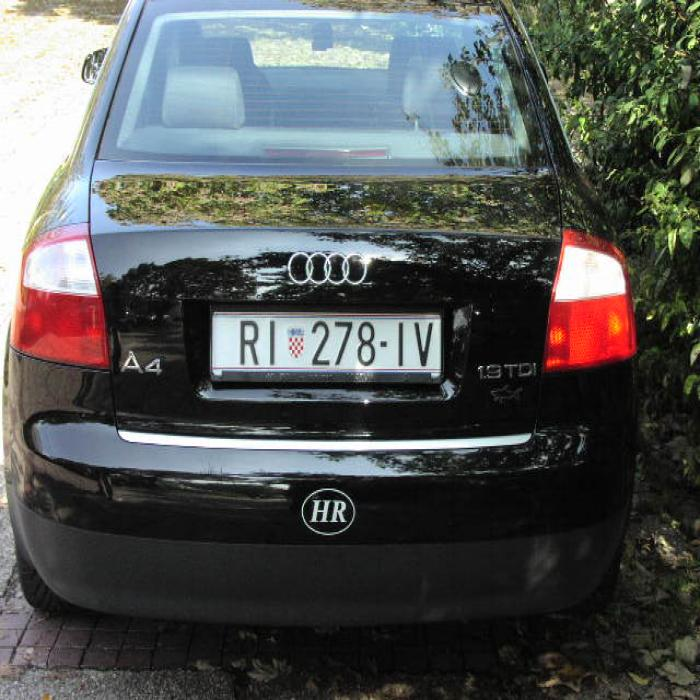number_plate: (206, 312, 438, 372)
